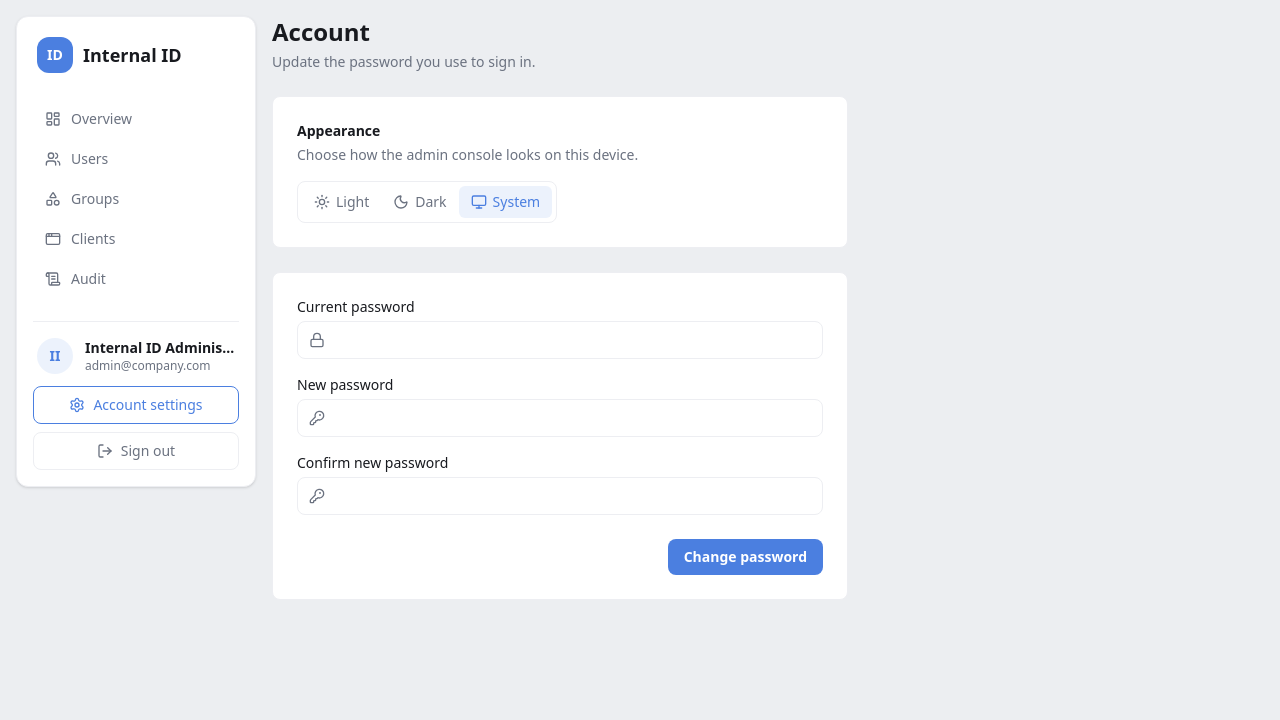
Test: changing the password with the correct current password succeeds
The image size is (1280, 720).
Expected: the heading "Account" is shown, x1=272 y1=15 x2=370 y2=48
Step 1. Type "correct-horse-battery" into the password field labelled "Current password" → (560, 340), box x1=297 y1=321 x2=823 y2=359
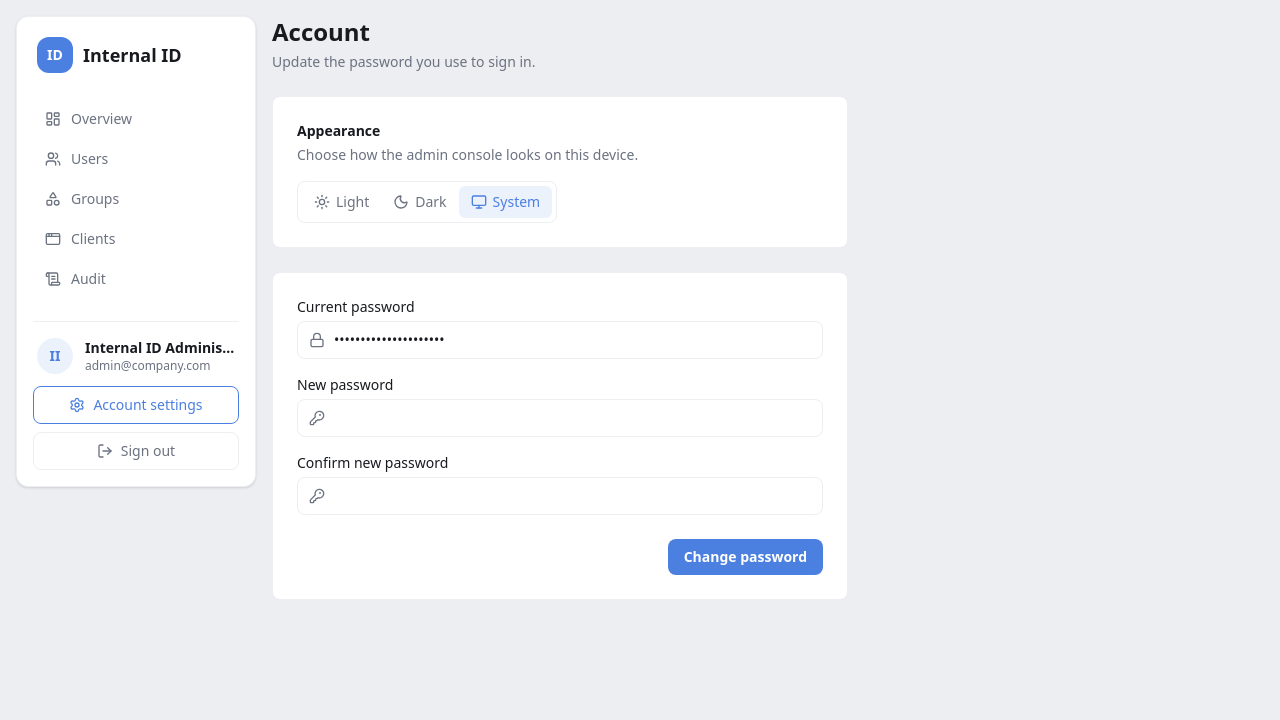
Step 2. Type "brand-new-password" into the password field labelled "New password" → (560, 418), box x1=297 y1=399 x2=823 y2=437
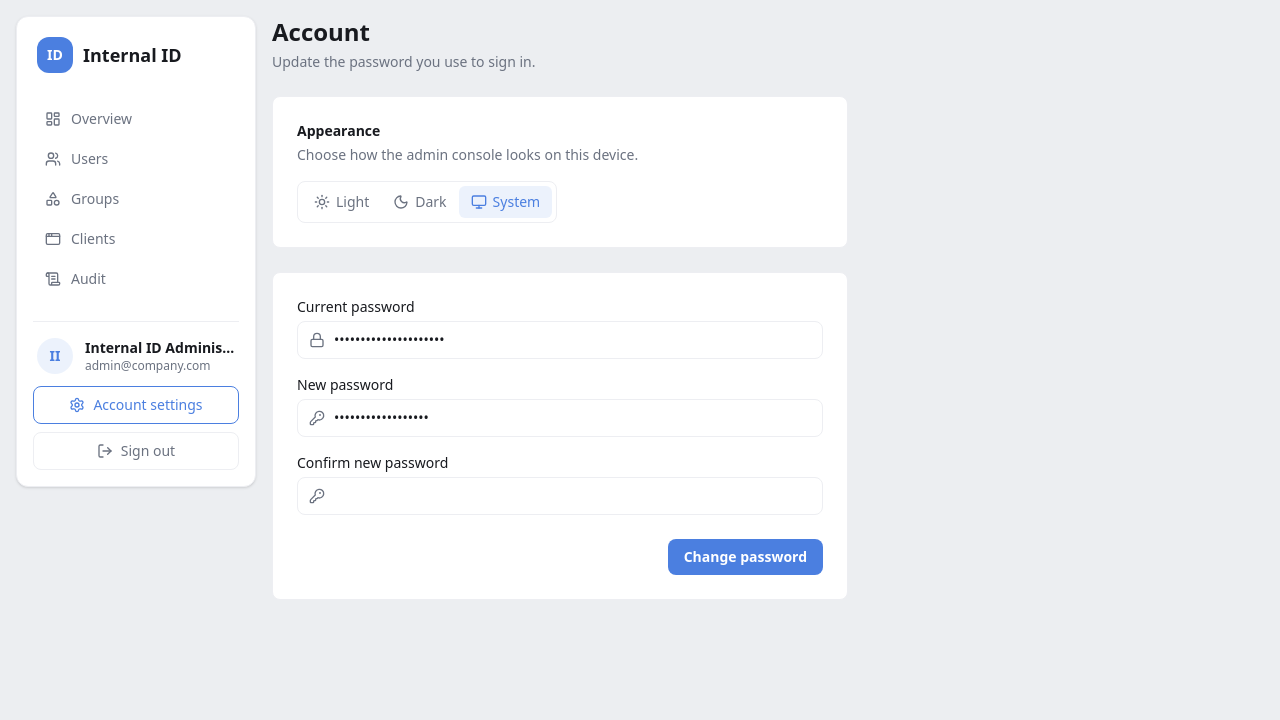
Step 3. Type "brand-new-password" into the password field labelled "Confirm new password" → (560, 496), box x1=297 y1=477 x2=823 y2=515
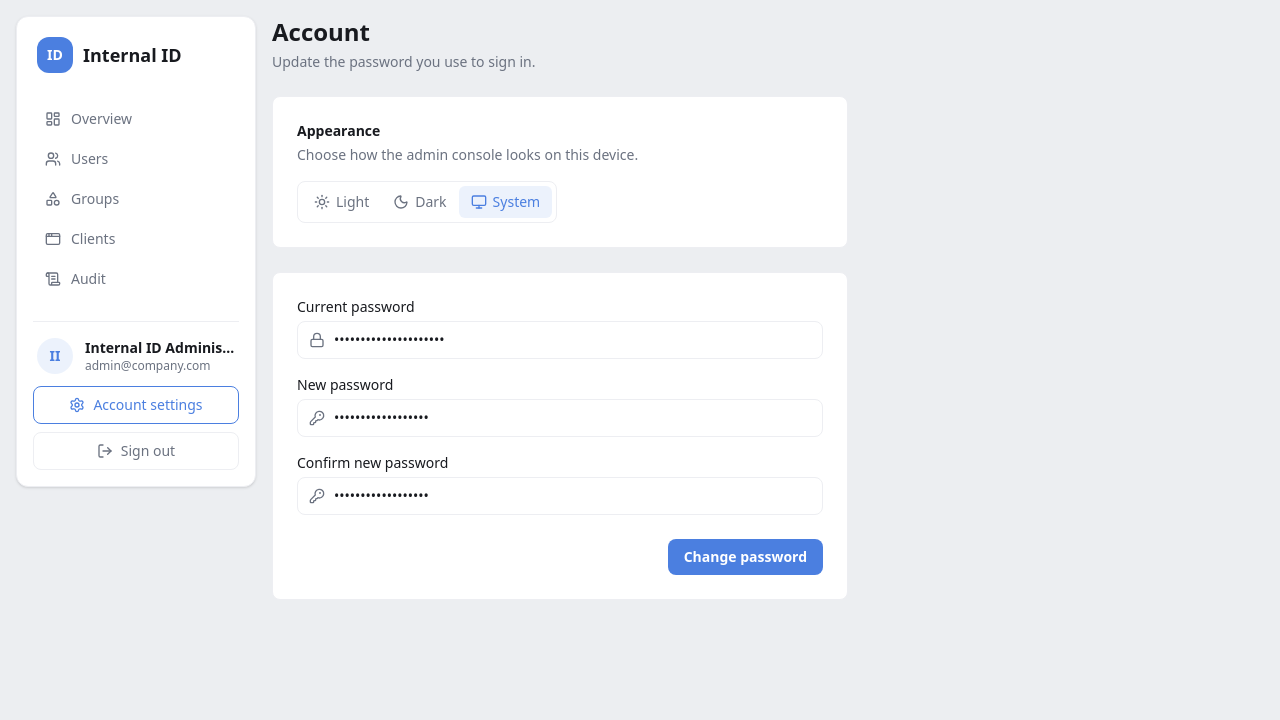
Step 4. Click the button "Change password" → (745, 557), box x1=668 y1=539 x2=823 y2=575
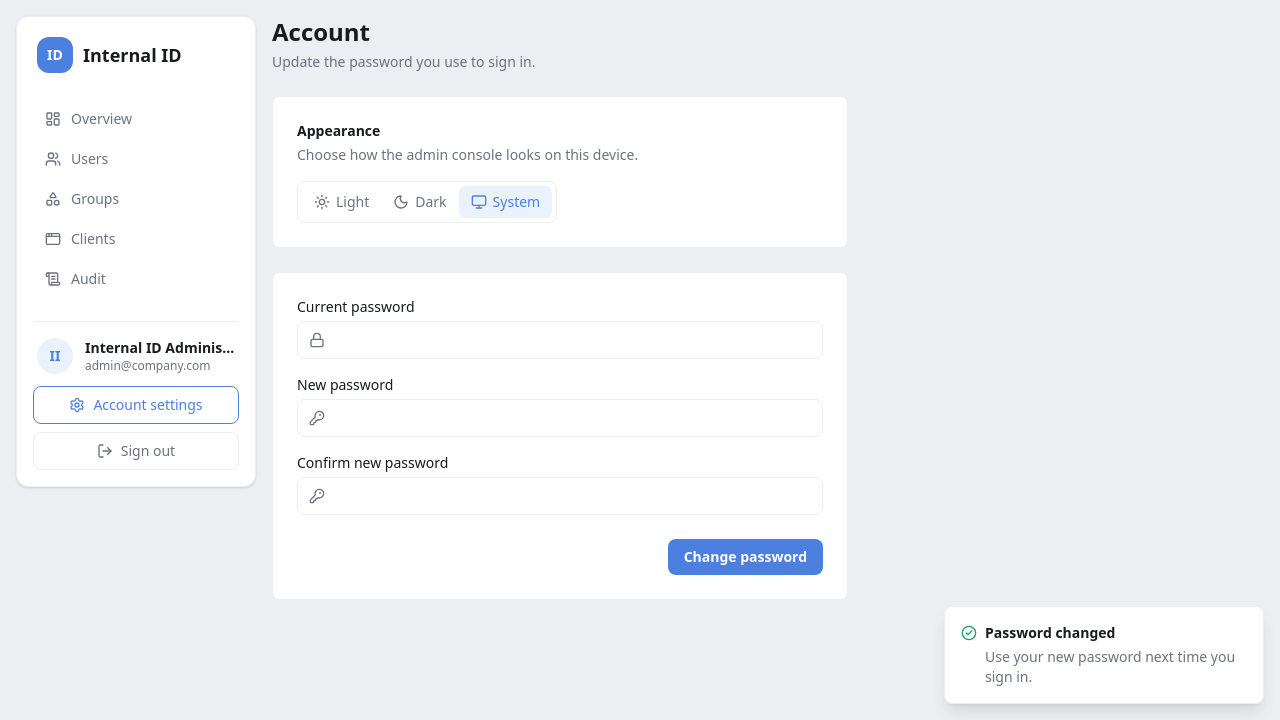
Expected: the text "Password changed" is shown, x1=961 y1=623 x2=1115 y2=642
